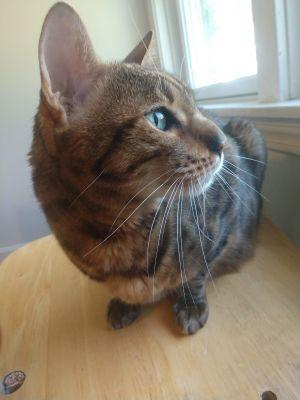bengal: (30, 1, 233, 217)
